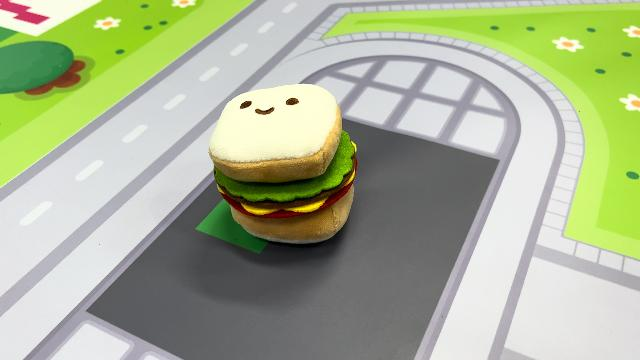sandwich: (206, 81, 360, 245)
